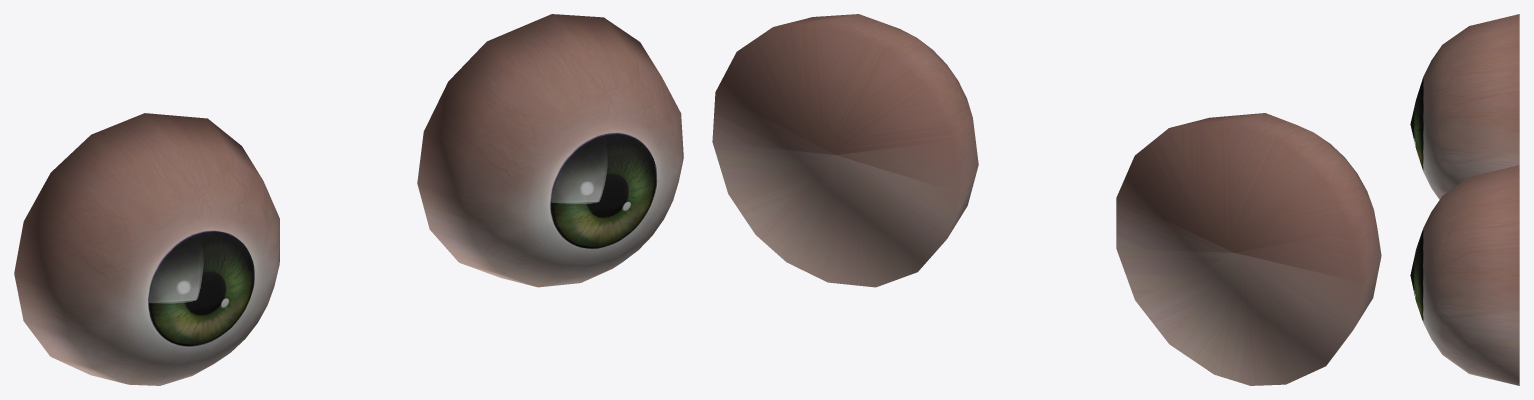
Rendered from eye4.glb.
3 renders of one model, left to right at view 1: azimuth 30°, elevation 25°; view 2: azimuth 150°, elevation 25°; view 3: azimuth 270°, elevation 25°, orthographic. The views are drawn at different scales.
Visible parts, largest first — view 1: EyeRight, EyeLeft; view 2: EyeLeft, EyeRight; view 3: EyeLeft, EyeRight.
Boxes of the visible parts, <box> form: EyeRight: <box>14,113,279,385</box>; EyeLeft: <box>417,14,683,287</box>; EyeLeft: <box>712,14,978,287</box>; EyeRight: <box>1116,113,1381,385</box>; EyeLeft: <box>1410,165,1519,385</box>; EyeRight: <box>1410,14,1519,199</box>.
Size of the model in its own units: 0.1023 by 0.0389 by 0.0193.
1 material, 1 textured.
